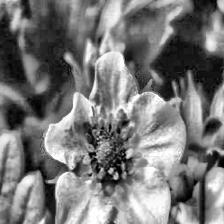Blossom Blight: (71, 106, 144, 195)
